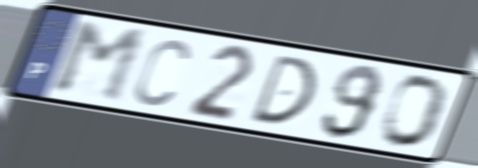2: (185, 42, 261, 125)
9: (318, 62, 385, 143)
C: (131, 36, 193, 109)
D: (246, 52, 319, 127)
M: (49, 20, 150, 106)
O: (378, 73, 453, 151)
